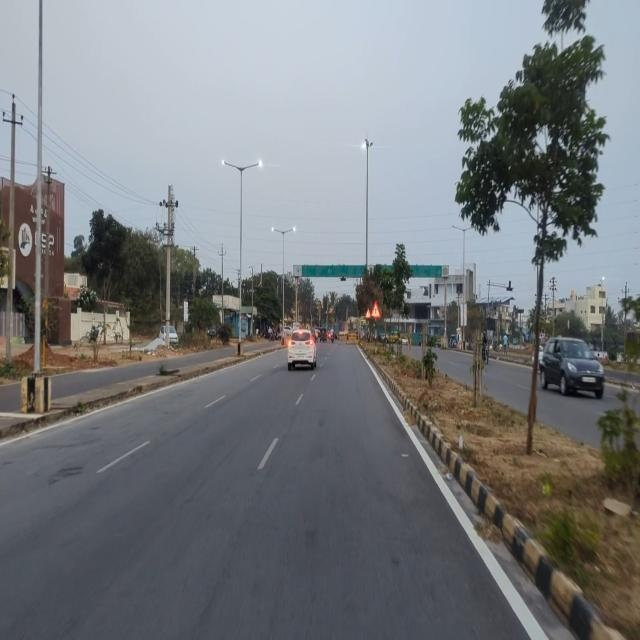bien_nguy_hiem: (371, 300, 381, 318), (365, 307, 371, 319)
